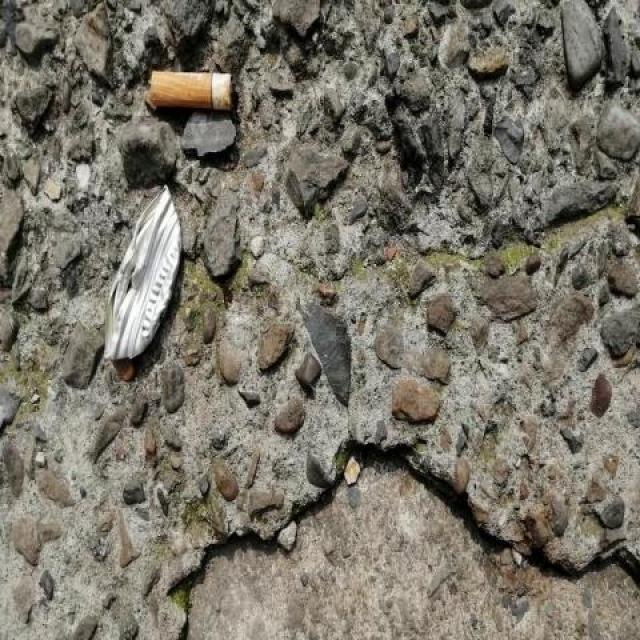non-organic waste: (140, 62, 248, 122)
